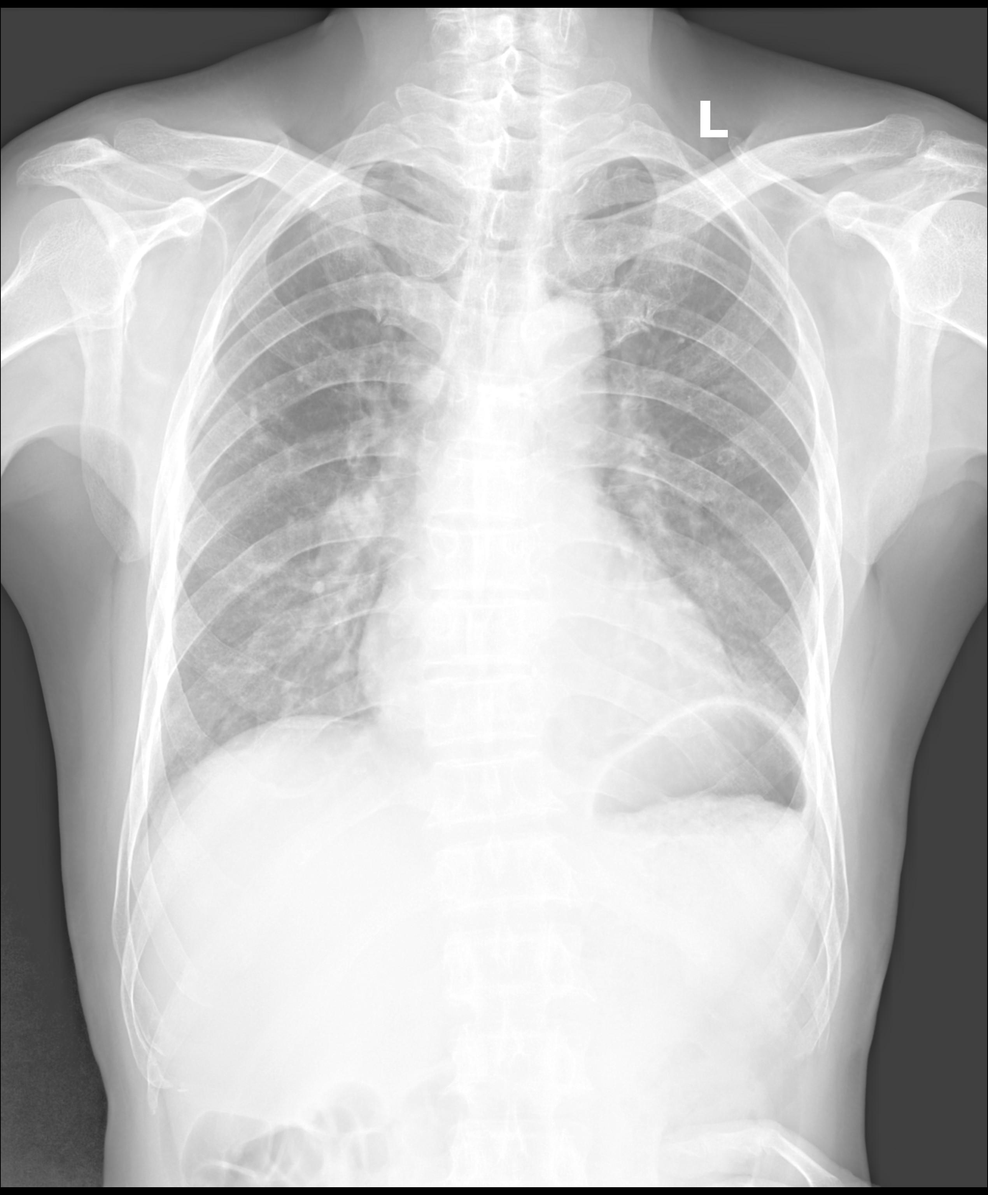Aortic enlargement: (513, 296, 605, 393)
Pleural thickening: (289, 172, 366, 210)
